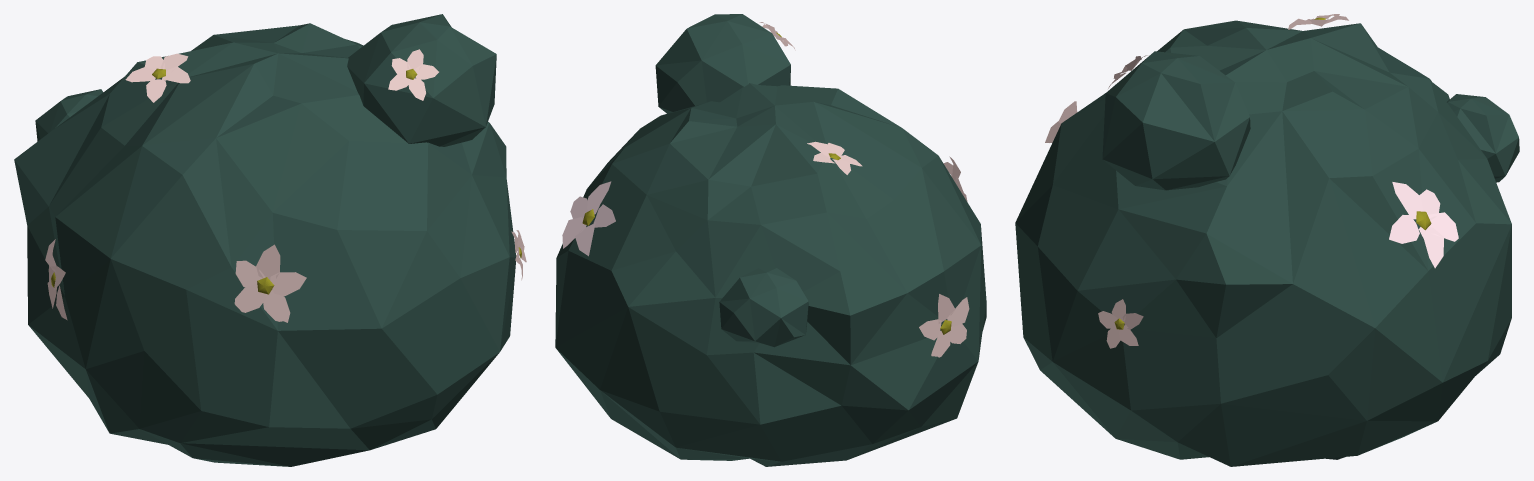
File: Pot_3b_plant.fbx
The picture shows the model from 3 angles, left to right: view 1: azimuth 30°, elevation 25°; view 2: azimuth 150°, elevation 25°; view 3: azimuth 270°, elevation 25°; orthographic projection. The views are drawn at different scales.
Parts seen in each view (by area): view 1: Sphere; view 2: Sphere; view 3: Sphere.
Boxes of the visible parts, left/top/right/bottom form: Sphere: left=14, top=14, right=526, bottom=466; Sphere: left=555, top=14, right=986, bottom=466; Sphere: left=1015, top=14, right=1519, bottom=466.
Bounding box in the file's own units: 86.44 × 78.71 × 86.88.
